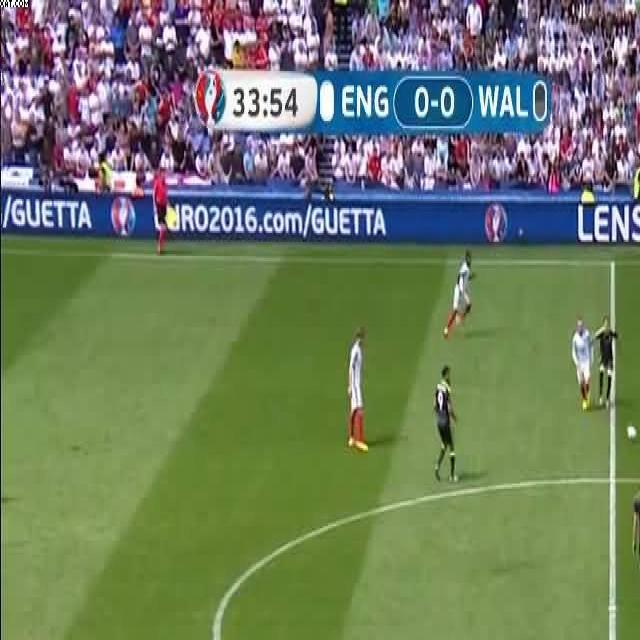ball: (626, 424, 638, 441)
player-white: (443, 249, 476, 337), (434, 366, 458, 486), (592, 317, 622, 411), (347, 326, 369, 452), (573, 321, 595, 412), (153, 166, 170, 254), (632, 468, 640, 608)
